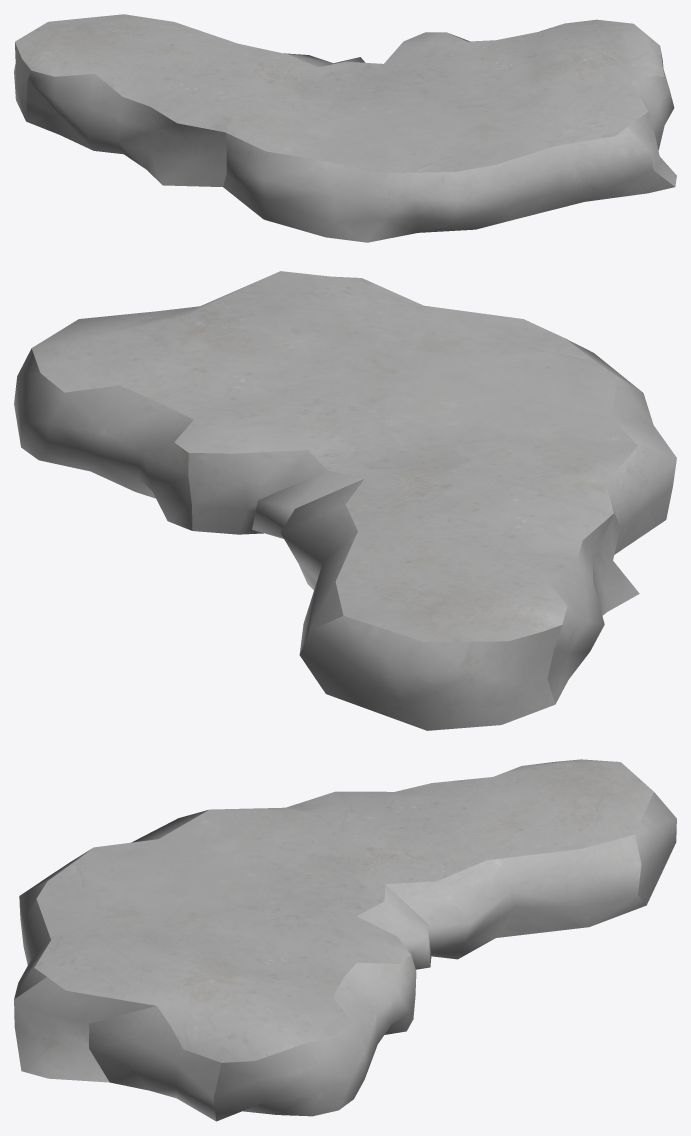
Rendered from SM_Ground_Debris_M1.fbx.
The picture shows the model from 3 angles, top to bottom: view 1: azimuth 30°, elevation 25°; view 2: azimuth 150°, elevation 25°; view 3: azimuth 270°, elevation 25°; orthographic projection. The views are drawn at different scales.
Parts seen in each view (by area): view 1: SM_Ground_Debris_M1_LOD0; view 2: SM_Ground_Debris_M1_LOD0; view 3: SM_Ground_Debris_M1_LOD0.
Boxes of the visible parts, x1=… form: SM_Ground_Debris_M1_LOD0: x1=14, y1=14, x2=676, y2=242; SM_Ground_Debris_M1_LOD0: x1=14, y1=271, x2=676, y2=730; SM_Ground_Debris_M1_LOD0: x1=14, y1=759, x2=676, y2=1121.
Size of the model in its own units: 208 by 199 by 32.46.
Materials: 1 (1 with a texture image).
